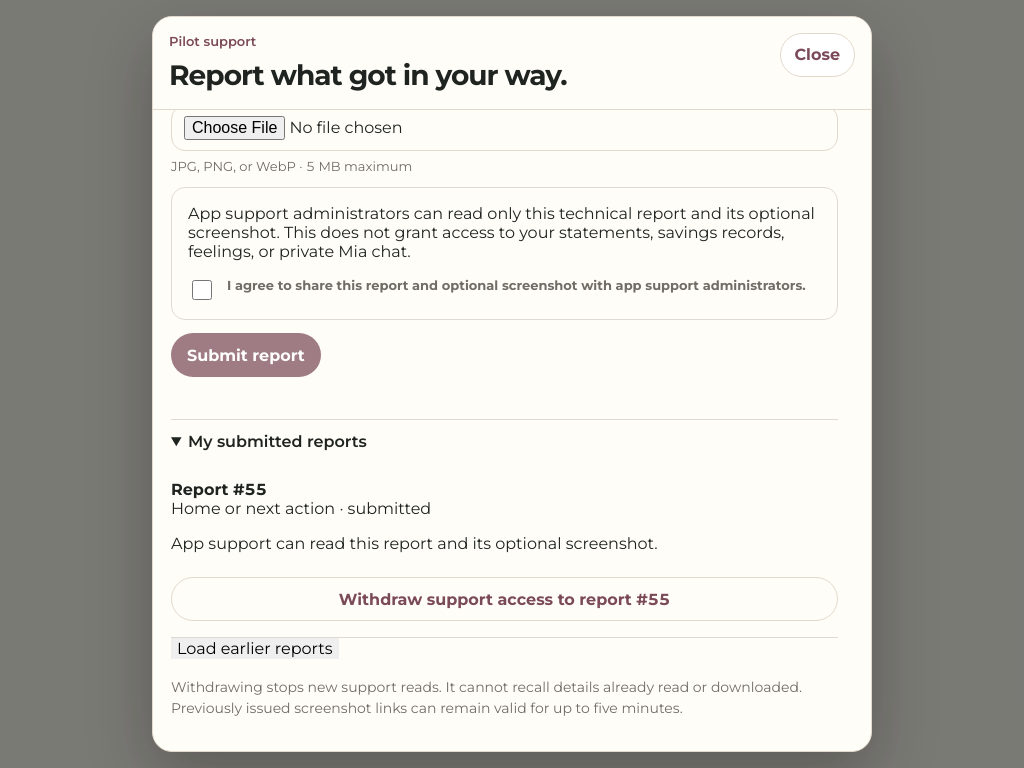
Test: report-only support sharing › loads only metadata on demand and pages earlier reports
(page scrolled)
Expected: the text "Report #55" is shown, [171, 480, 267, 499]
Click the button "Load earlier reports" at (255, 649), box [171, 638, 338, 659]
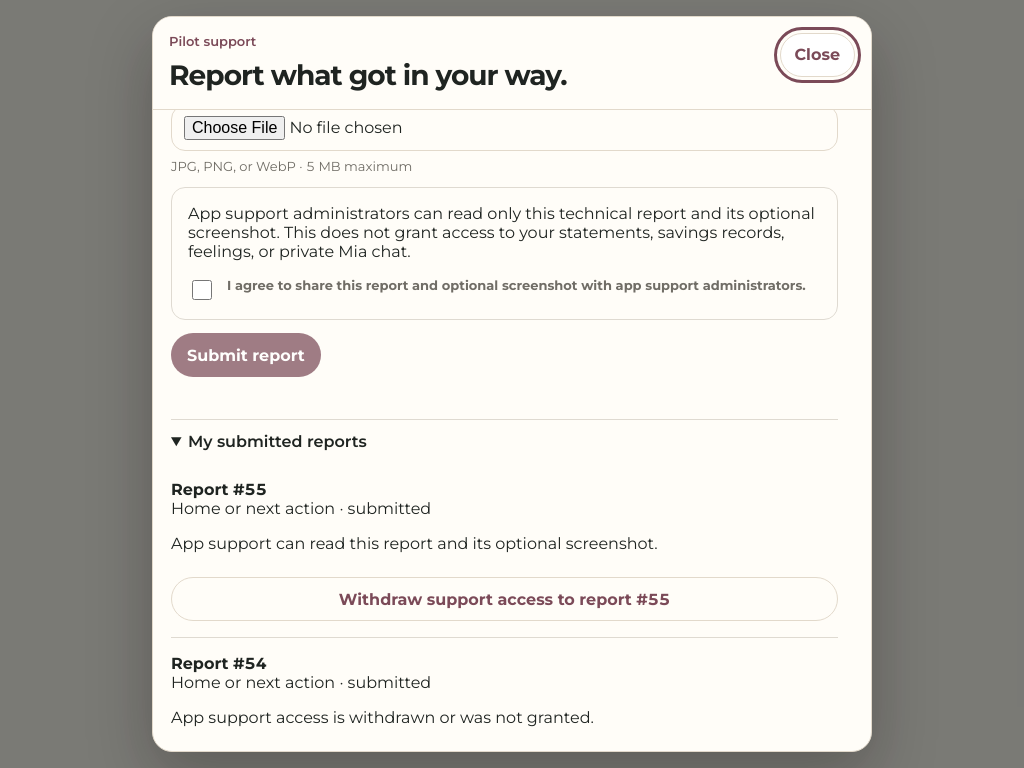
Result: the text "Report #54" is shown at [171, 654, 267, 673]
